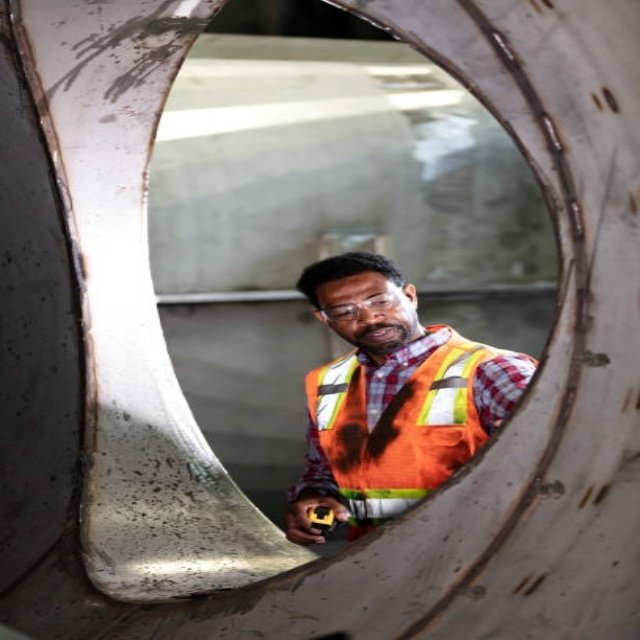Gafas: (318, 288, 403, 323)
Sin_guantes: (285, 495, 349, 545)
Sin_mascara: (358, 327, 408, 345)
